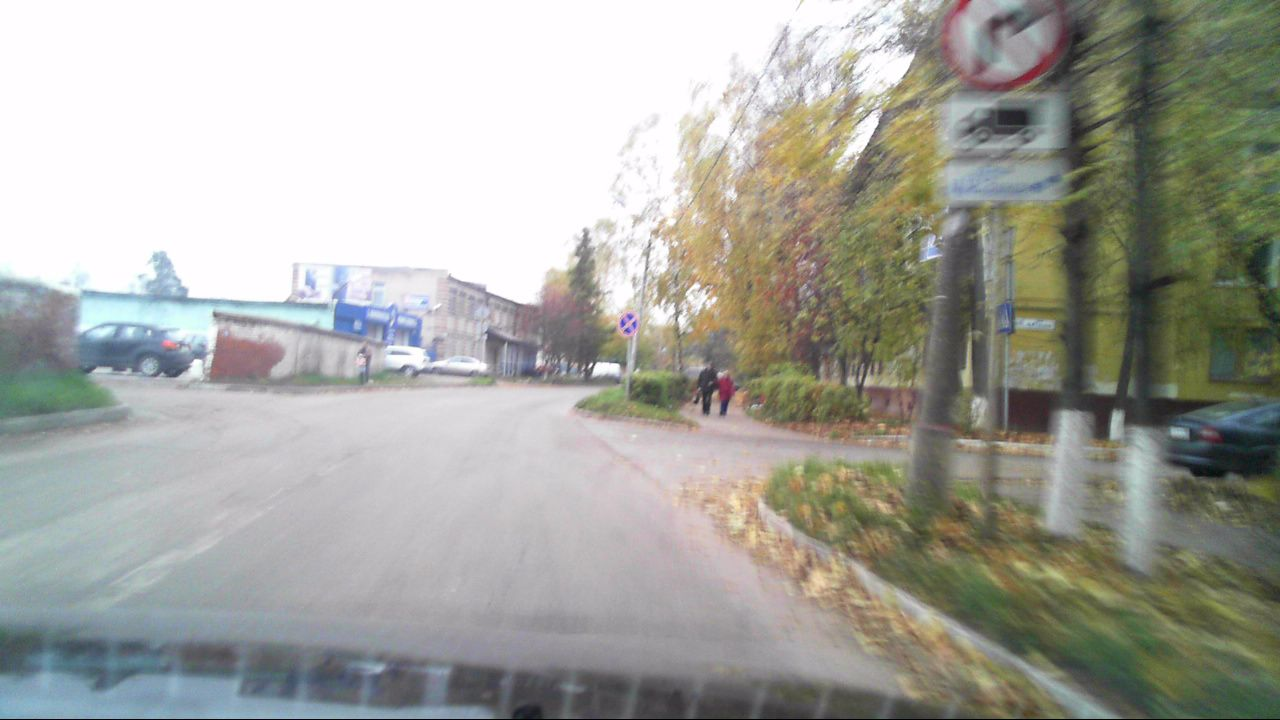No Parking: (616, 311, 638, 338)
